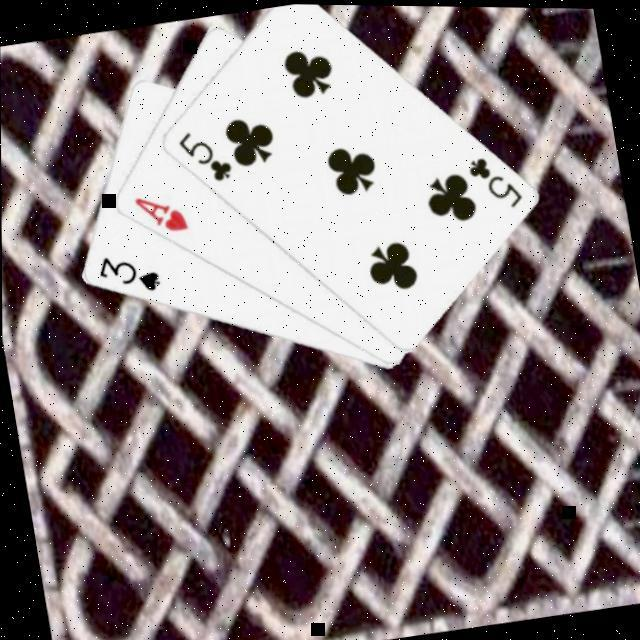3S: (90, 248, 162, 305)
5C: (460, 148, 525, 218), (170, 124, 235, 192)
AH: (128, 188, 190, 242)
